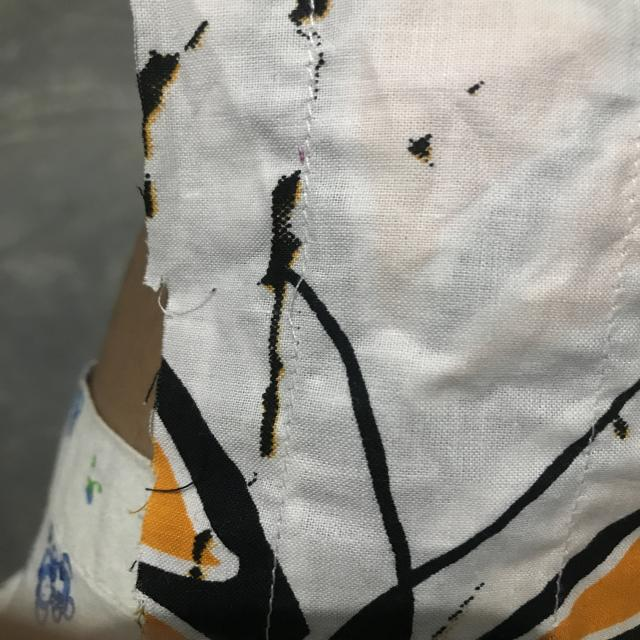skip: (260, 257, 323, 358)
